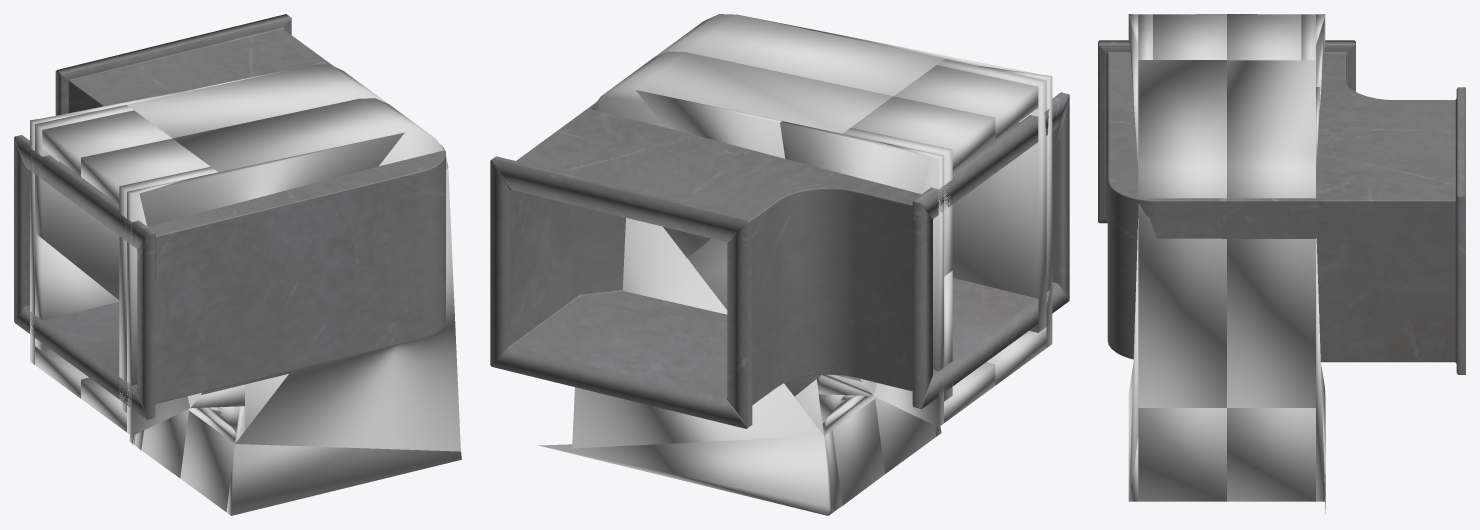
The model's file is SM_Vent_Elbow_Horizontal.fbx.
3 views of the same model, side by side, from view 1: azimuth 30°, elevation 25°; view 2: azimuth 150°, elevation 25°; view 3: azimuth 270°, elevation 25° (orthographic). The views are drawn at different scales.
Visible parts, largest first — view 1: SM_Vent_Elbow_Horizontal_ConvexHulls, SM_Vent_Elbow_Horizontal; view 2: SM_Vent_Elbow_Horizontal, SM_Vent_Elbow_Horizontal_ConvexHulls; view 3: SM_Vent_Elbow_Horizontal_ConvexHulls, SM_Vent_Elbow_Horizontal.
Part boxes in pixels (bbox=[...]): SM_Vent_Elbow_Horizontal_ConvexHulls: bbox=[30, 64, 461, 515]; SM_Vent_Elbow_Horizontal: bbox=[14, 14, 445, 419]; SM_Vent_Elbow_Horizontal: bbox=[490, 92, 1069, 428]; SM_Vent_Elbow_Horizontal_ConvexHulls: bbox=[538, 14, 1052, 515]; SM_Vent_Elbow_Horizontal_ConvexHulls: bbox=[1128, 14, 1325, 513]; SM_Vent_Elbow_Horizontal: bbox=[1098, 40, 1465, 374].
Bounding box in the file's own units: 1.68 × 1.54 × 1.54.
